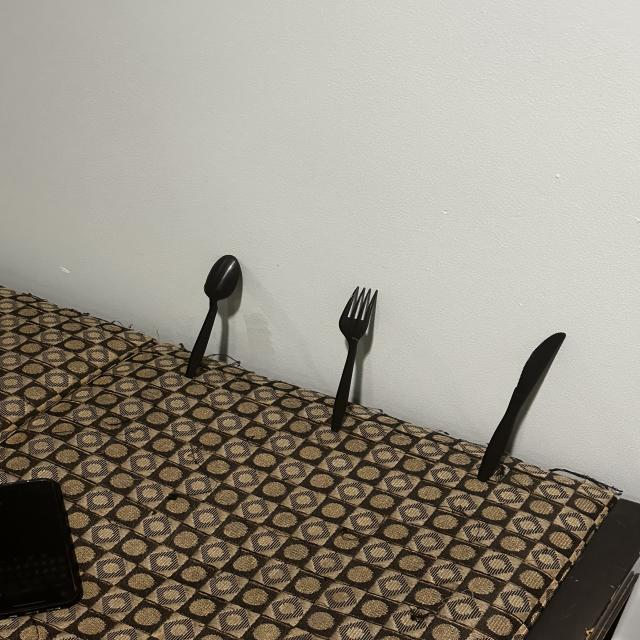fork: (303, 264, 436, 442)
knife: (455, 317, 599, 493)
spoon: (169, 235, 269, 384)
